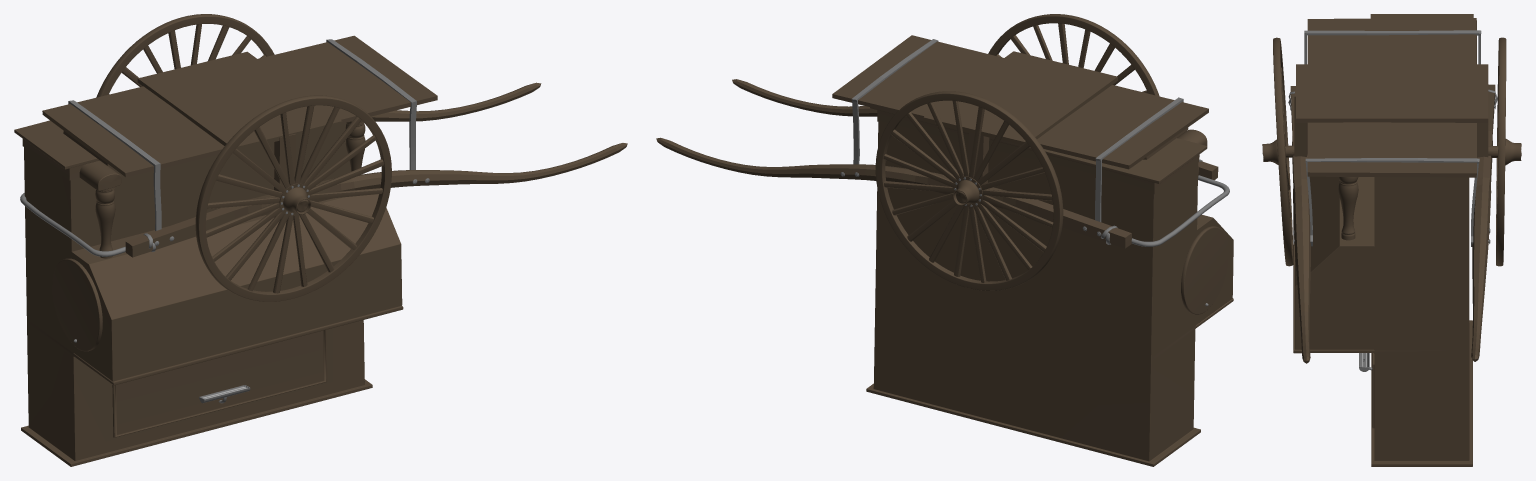
Rendered from PianoCart.fbx.
The picture shows the model from 3 angles, left to right: view 1: azimuth 30°, elevation 25°; view 2: azimuth 150°, elevation 25°; view 3: azimuth 270°, elevation 25°; orthographic projection. The views are drawn at different scales.
Visible parts, largest first — view 1: piano1; view 2: piano1; view 3: piano1.
Part boxes in pixels (bbox=[...]): piano1: bbox=[14, 14, 627, 466]; piano1: bbox=[656, 14, 1233, 466]; piano1: bbox=[1262, 14, 1521, 466].
Bounding box in the file's own units: 11.42 × 7.37 × 4.76.
